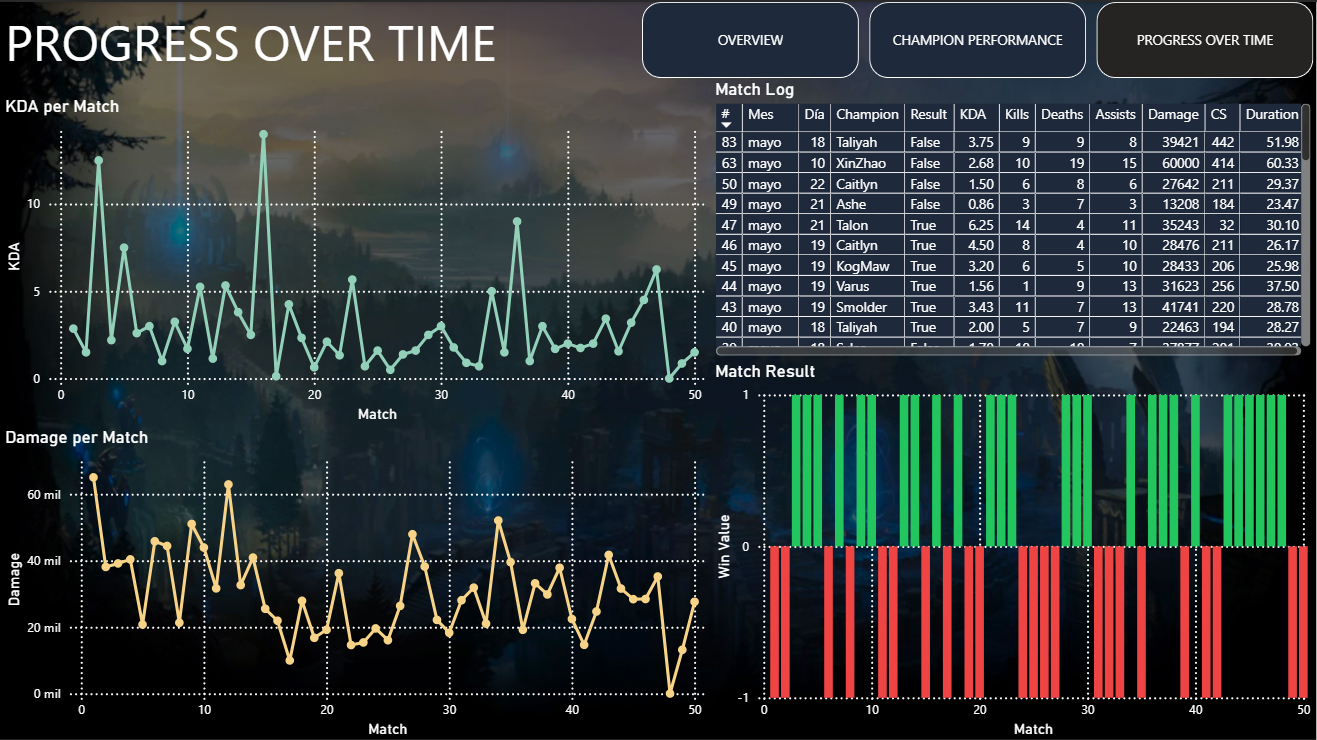

Layout of this report page (visuals, bound fields, positions):
{"tool":"powerbi","page":{"name":"PROGRESS OVER TIME","canvas":[1280,720],"ordinal":2},"visuals":[{"type":"lineChart","title":"KDA per Match","fields":{"Y":["Sum(analytics personal_match_history.kda)"],"Category":["analytics personal_match_history.match_number"]},"box":[0,91.4,690.6,321.9],"z":0},{"type":"columnChart","title":"Match Result","fields":{"Category":["analytics personal_match_history.match_number"],"Y":["analytics personal_match_history.Win Value"]},"box":[690.6,349.2,589.4,370.6],"z":1000},{"type":"tableEx","title":"Match Log","fields":{"Values":["Sum(analytics personal_match_history.match_number)","analytics personal_match_history.game_start_ts.Variación.Jerarquía de fechas.Mes","analytics personal_match_history.game_start_ts.Variación.Jerarquía de fechas.Día","analytics personal_match_history.champion_name","analytics personal_match_history.win","Sum(analytics personal_match_history.kda)","Sum(analytics personal_match_history.kills)","Sum(analytics personal_match_history.deaths)","Sum(analytics personal_match_history.assists)","Sum(analytics personal_match_history.damage_dealt)","Sum(analytics personal_match_history.cs)","Sum(analytics personal_match_history.game_duration_mins)"]},"box":[690.6,74.9,589.4,274.3],"z":2000},{"type":"textbox","box":[0,0,518.4,91.4],"z":3000},{"type":"lineChart","title":"Damage per Match","fields":{"Category":["analytics personal_match_history.match_number"],"Y":["Sum(analytics personal_match_history.damage_dealt)"]},"box":[0,413.4,690.6,306.4],"z":4000},{"type":"pageNavigator","box":[624.4,0,655.6,74.9],"z":5000}]}

Visuals, with their boxes in screenshot pixels (x1, y1, x2, y2), scaled from the page's 1280x720 canvas onto the 1317x740 screenshot:
"KDA per Match" lineChart: box=[0, 94, 711, 425]
"Match Result" columnChart: box=[711, 359, 1316, 739]
"Match Log" tableEx: box=[711, 77, 1316, 359]
textbox: box=[0, 0, 533, 94]
"Damage per Match" lineChart: box=[0, 425, 711, 739]
pageNavigator: box=[642, 0, 1316, 77]
